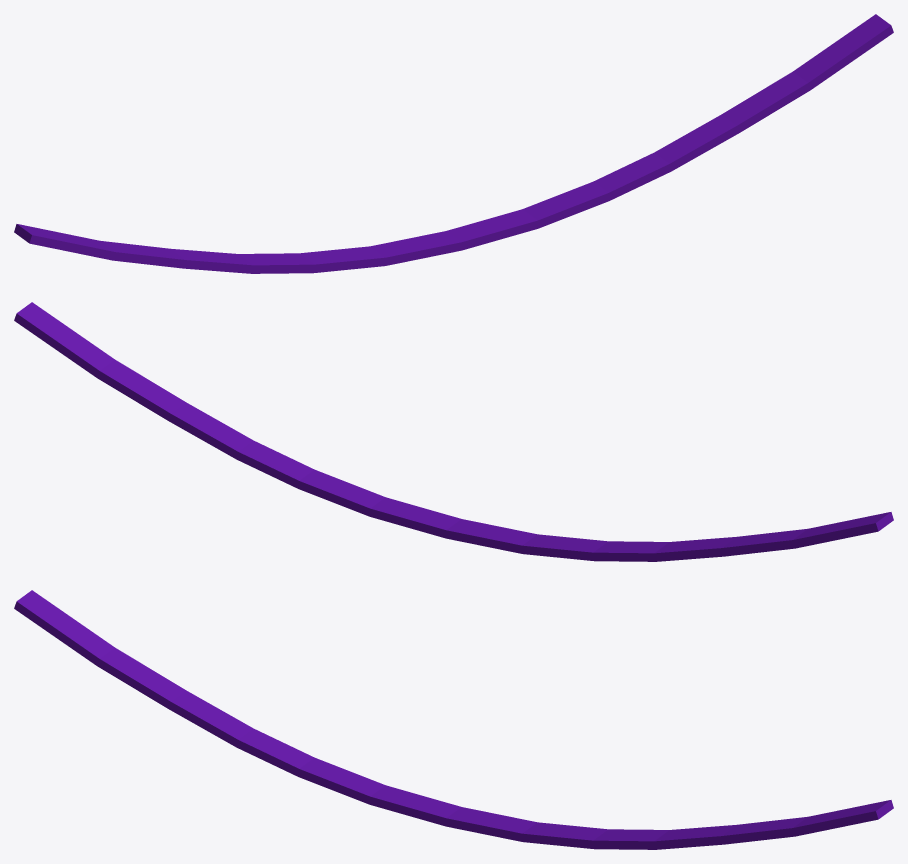
Rendered from Tape_8.002_chunks.fbx.
The picture shows the model from 3 angles, top to bottom: view 1: azimuth 30°, elevation 25°; view 2: azimuth 150°, elevation 25°; view 3: azimuth 330°, elevation 25°; orthographic projection.
Parts seen in each view (by area): view 1: Tape_8.002_3, Tape_8.002_0, Tape_8.002_1; view 2: Tape_8.002_3, Tape_8.002_0, Tape_8.002_1; view 3: Tape_8.002_0, Tape_8.002_3, Tape_8.002_1.
Boxes of the visible parts, x1,y1,x2,y2 form: Tape_8.002_3: (532, 14, 893, 224); Tape_8.002_0: (14, 224, 413, 273); Tape_8.002_1: (398, 205, 548, 256); Tape_8.002_3: (14, 302, 388, 507); Tape_8.002_0: (495, 512, 893, 561); Tape_8.002_1: (346, 498, 503, 550); Tape_8.002_0: (14, 590, 412, 809); Tape_8.002_3: (519, 800, 893, 849); Tape_8.002_1: (405, 793, 546, 842).
Bounding box in the file's own units: 776 × 103 × 24.08.
